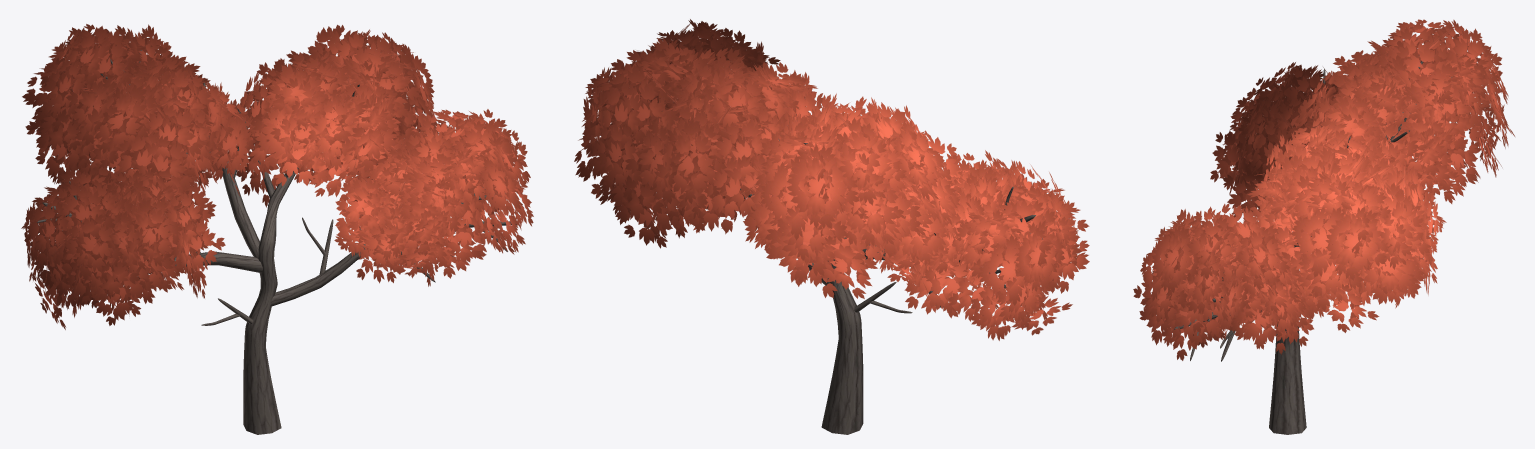
The model's file is tree_c.glb.
The picture shows the model from 3 angles, left to right: view 1: azimuth 30°, elevation 25°; view 2: azimuth 150°, elevation 25°; view 3: azimuth 270°, elevation 25°; orthographic projection. The views are drawn at different scales.
Parts seen in each view (by area): view 1: MapleTree_3; view 2: MapleTree_3; view 3: MapleTree_3.
Boxes of the visible parts, x1=… form: MapleTree_3: x1=21, y1=24, x2=533, y2=434; MapleTree_3: x1=574, y1=19, x2=1089, y2=434; MapleTree_3: x1=1133, y1=19, x2=1514, y2=434.
Bounding box in the file's own units: 8.98 × 6.99 × 6.61.
Materials: 2 (2 with a texture image).
